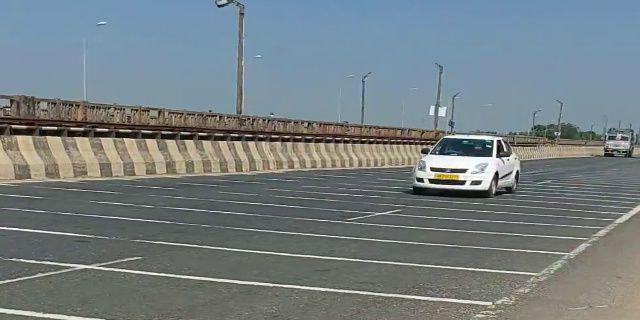Car: (413, 124, 526, 198)
Truck: (601, 123, 633, 157)
